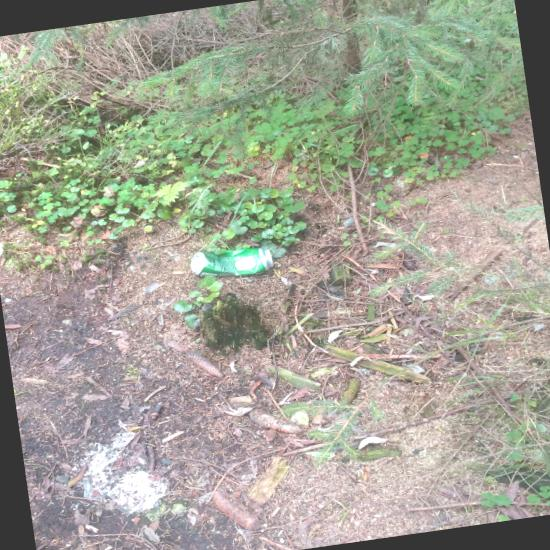Drink can: (190, 248, 273, 276)
